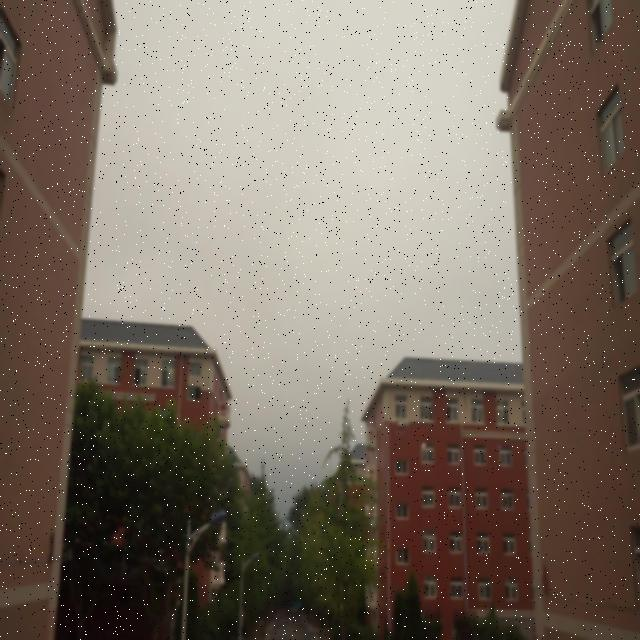UAV: (390, 420, 411, 435)
